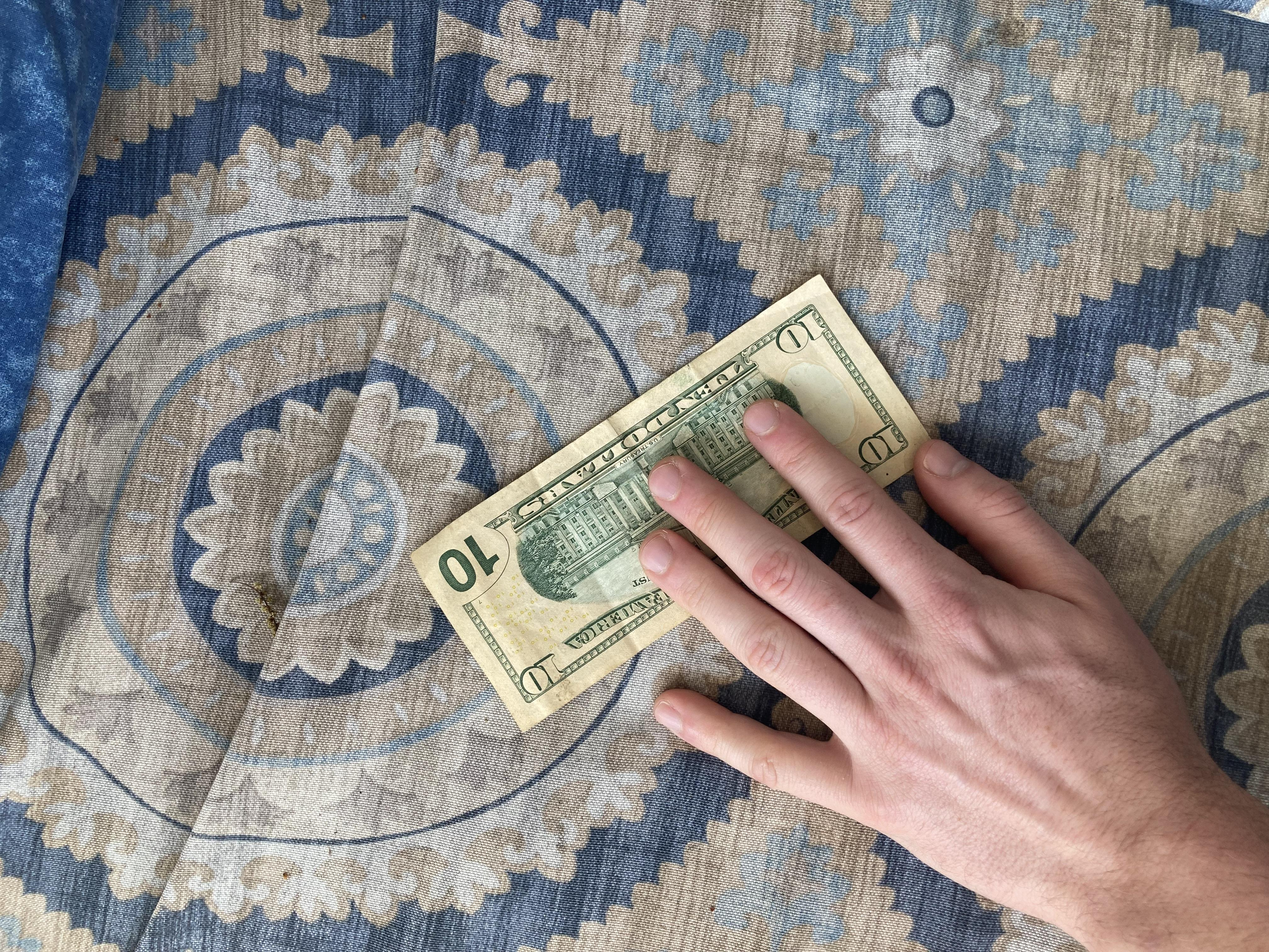ten-back: (293, 306, 901, 706)
